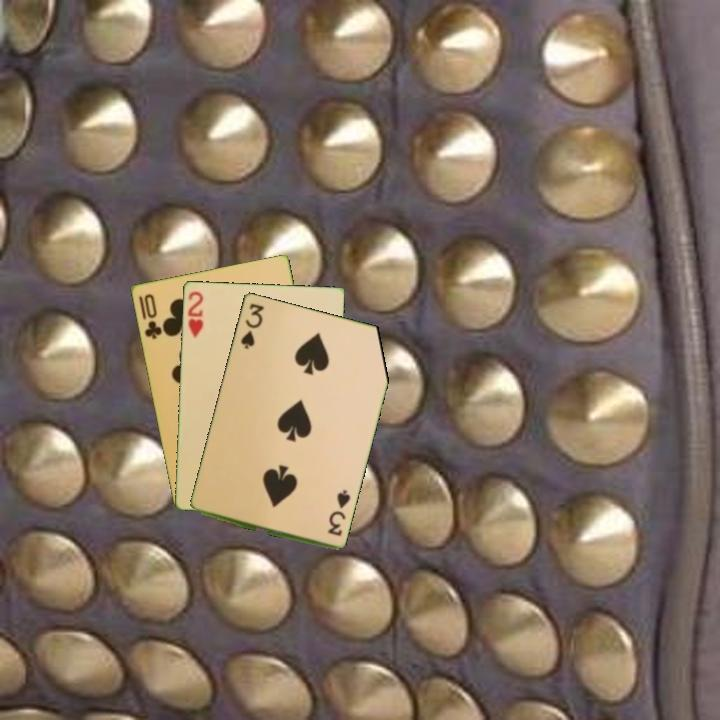10c: (135, 290, 165, 342)
2h: (184, 287, 206, 340)
3s: (237, 299, 267, 352), (324, 489, 353, 539)
